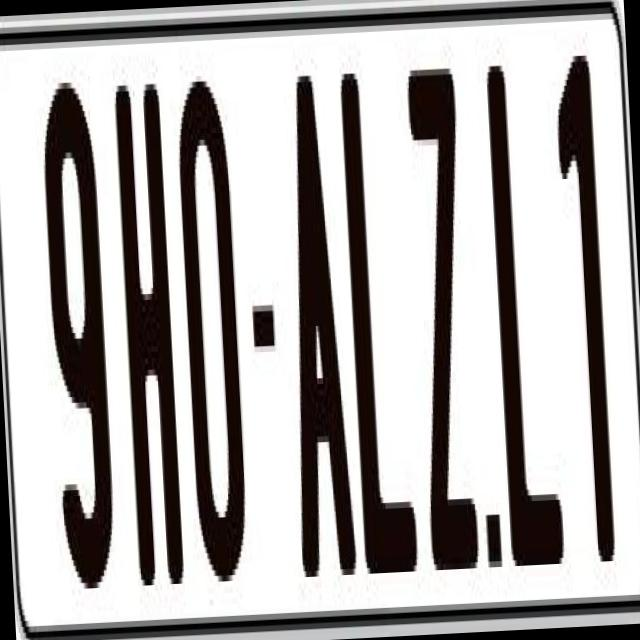0: (173, 69, 248, 576)
1: (550, 38, 620, 546)
9: (40, 75, 122, 613)
A: (276, 74, 366, 589)
H: (114, 78, 187, 616)
L: (481, 46, 562, 578), (338, 71, 422, 580)
Z: (404, 62, 486, 600)
